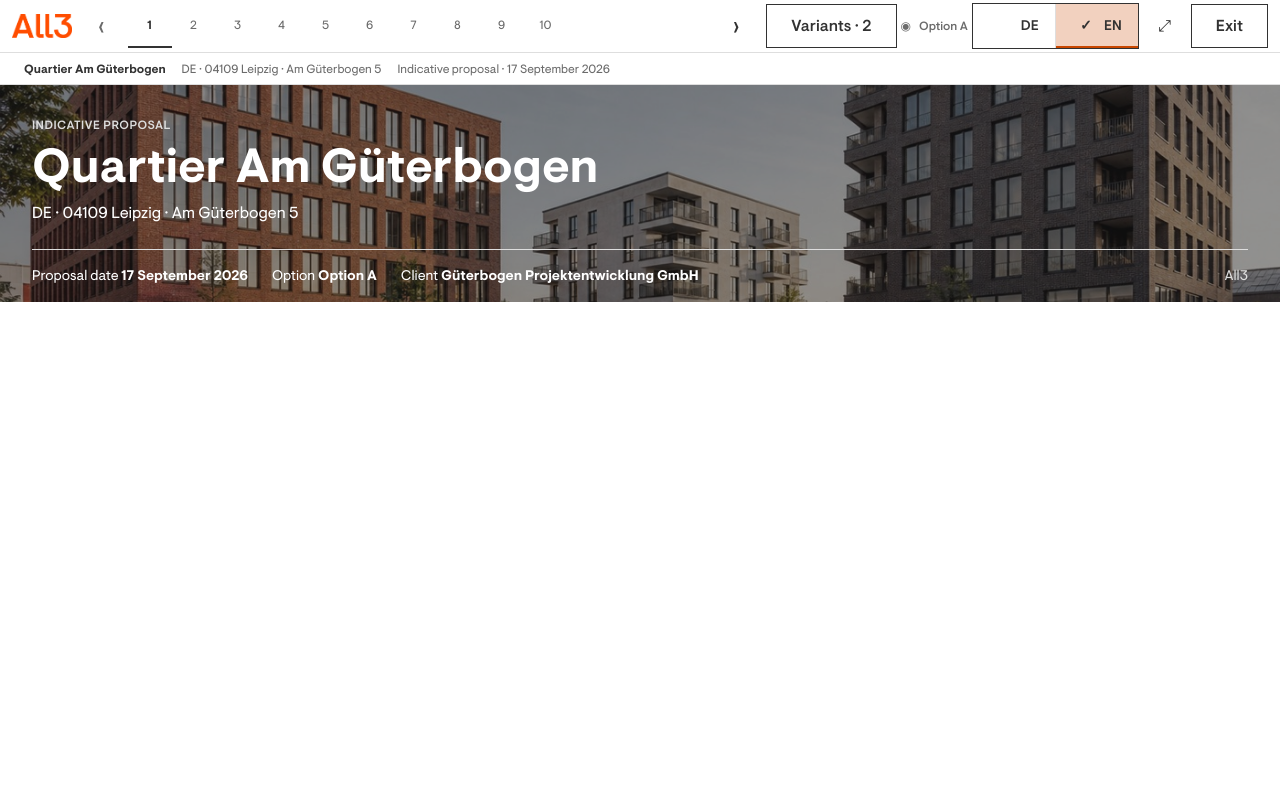
it: VR3-05 · the saved total is typeset for the active UI language › states EN grouping in the Varianten comparison cells, and never glues a digit to a sign
Click the button "Variants · 2".
click(831, 26)  # box left=766, top=4, right=896, bottom=48
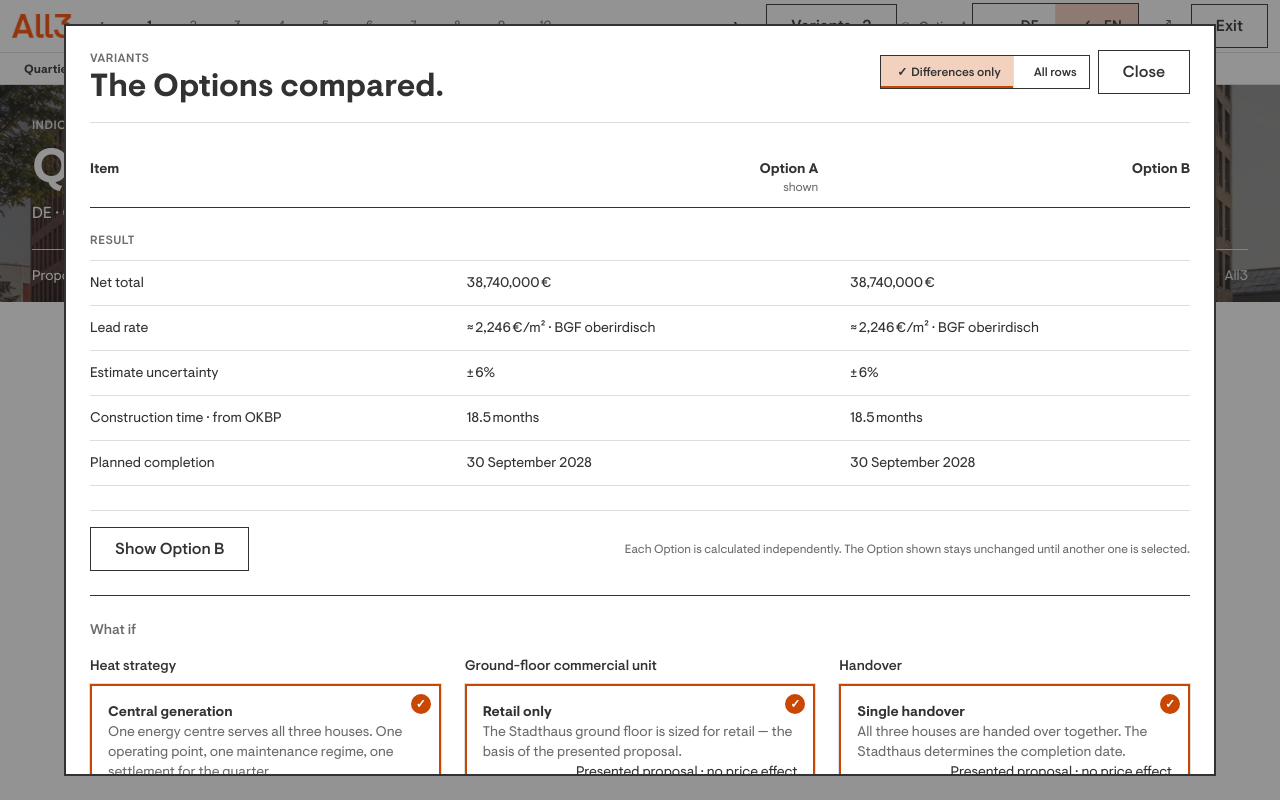
Check: the 1st cell "≈ 2,246 €/m² · BGF oberirdisch" is shown, box left=451, top=306, right=834, bottom=350
